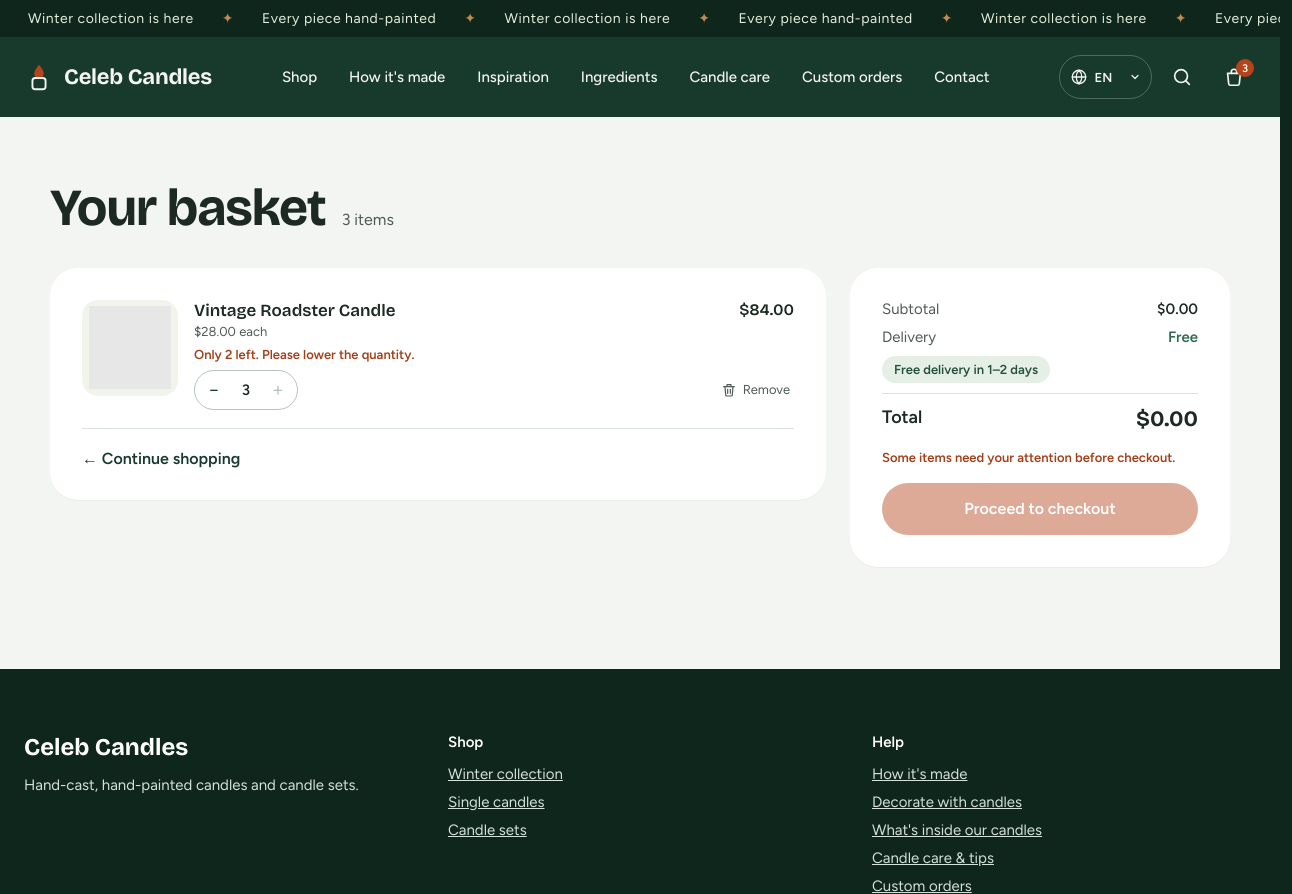
Basket › stops at the stock and blocks checkout when there are too few left
Check: the text "Only 2 left. Please lower the quantity." is shown, box 194,347 -> 414,362
Check: the button named "Increase quantity" is disabled, box 259,371 -> 297,409
Step 1. Click the button named "Decrease quantity" → point(214, 390), box 195,371 -> 233,409
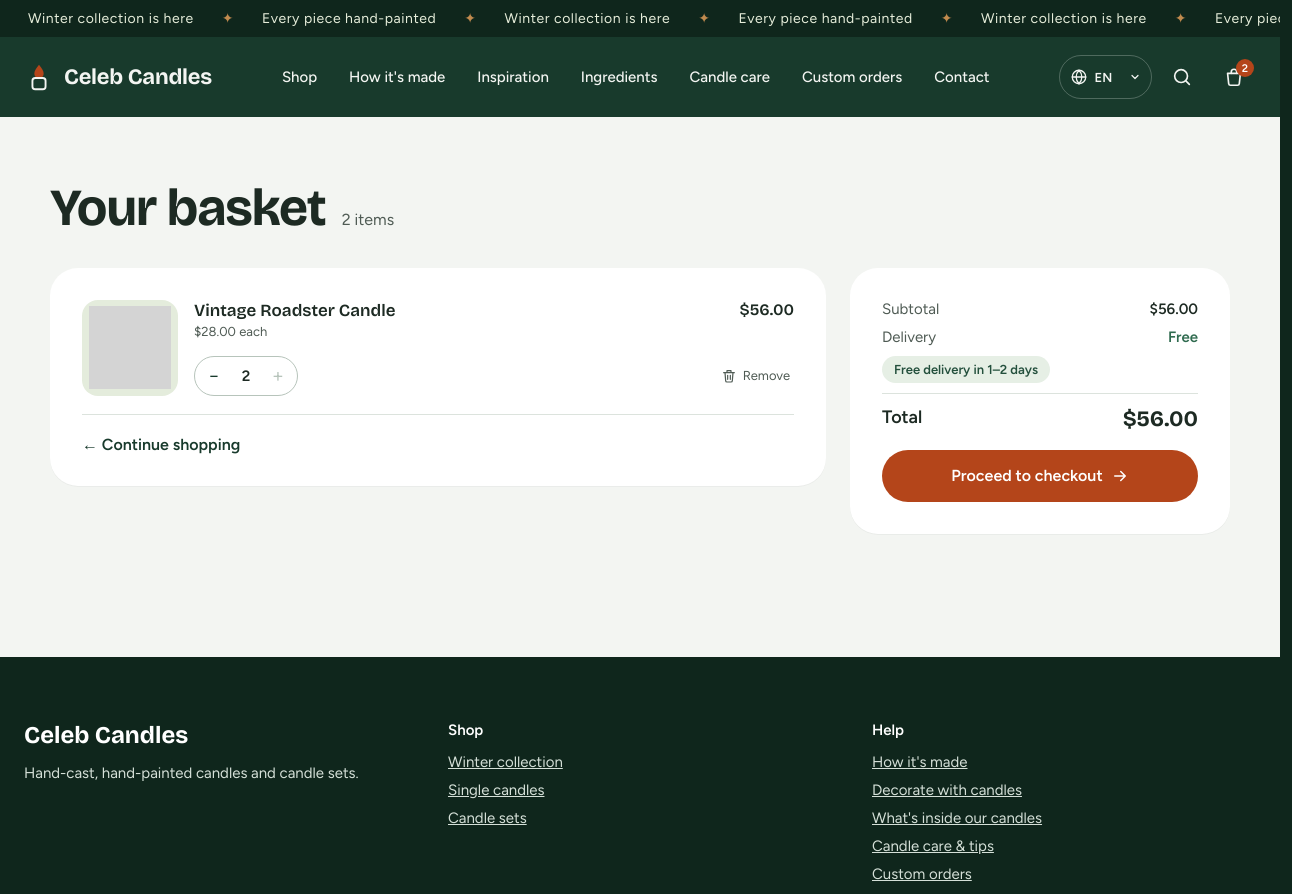
Check: the link "Proceed to checkout" is shown, box 882,450 -> 1198,502
Check: the text "Only 2 left" is gone
